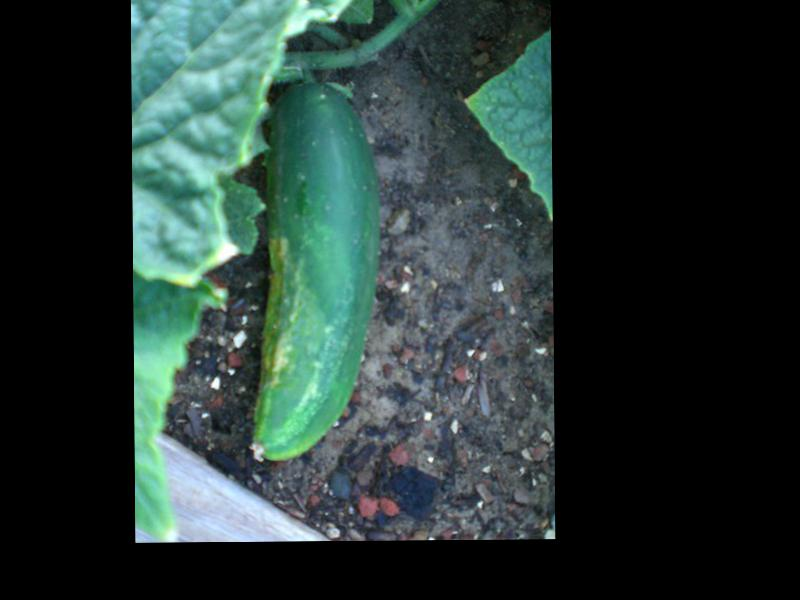Cucumber: (247, 82, 380, 461)
